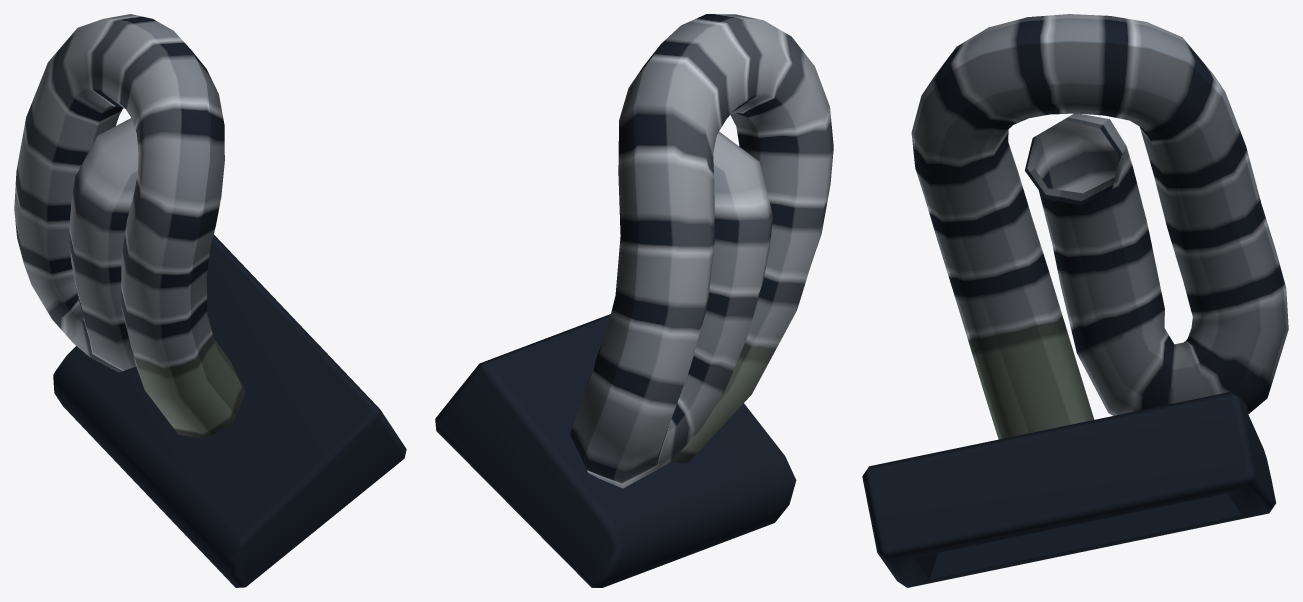
Rendered from VaccumCleanerOnSide.fbx.
3 renders of one model, left to right at view 1: azimuth 30°, elevation 25°; view 2: azimuth 150°, elevation 25°; view 3: azimuth 270°, elevation 25°, orthographic. The views are drawn at different scales.
Visible parts, largest first — view 1: VaccumCleanerOnSide; view 2: VaccumCleanerOnSide; view 3: VaccumCleanerOnSide.
Boxes of the visible parts, x1,y1,x2,y2 form: VaccumCleanerOnSide: (14, 14, 406, 587); VaccumCleanerOnSide: (435, 14, 833, 587); VaccumCleanerOnSide: (862, 14, 1288, 587).
Bounding box in the file's own units: 40.73 × 83.23 × 57.53.
